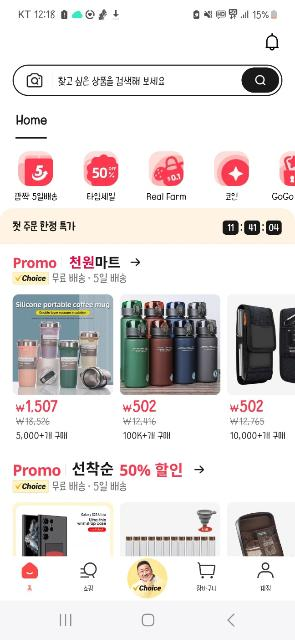Bottom_Navigation: (0, 556, 295, 601)
EditText: (52, 67, 282, 95)
Icon: (198, 562, 218, 580), (22, 561, 38, 579), (80, 562, 96, 580), (265, 31, 279, 50), (258, 562, 274, 578), (27, 73, 43, 87), (195, 464, 205, 474), (256, 76, 266, 86), (130, 258, 140, 266)
Image: (121, 294, 221, 394), (13, 296, 113, 394), (229, 296, 295, 396), (14, 502, 112, 558), (119, 503, 218, 557), (229, 502, 295, 556), (127, 558, 168, 598), (83, 150, 119, 186), (19, 152, 54, 186), (150, 152, 184, 186), (216, 152, 250, 186)
ImageButton: (241, 68, 279, 92)
Text: (230, 400, 288, 440), (16, 398, 66, 439), (124, 399, 172, 441), (72, 462, 184, 476), (58, 76, 164, 86), (53, 274, 127, 284), (68, 256, 119, 270), (54, 482, 126, 491), (13, 221, 75, 231), (14, 465, 60, 475), (226, 223, 280, 231), (14, 258, 56, 268), (147, 192, 187, 202), (15, 192, 57, 200), (17, 114, 47, 125), (88, 192, 116, 202), (273, 192, 295, 202), (22, 482, 46, 490), (22, 275, 46, 281), (198, 585, 217, 591), (226, 192, 238, 200), (260, 585, 272, 591), (85, 585, 94, 591), (27, 585, 33, 591)
TextImageButton: (13, 151, 59, 203), (146, 152, 188, 200), (83, 151, 119, 201), (216, 152, 250, 200), (198, 561, 218, 591), (255, 562, 275, 592), (22, 562, 38, 592), (80, 562, 96, 592)
UpperTaskBar: (0, 0, 295, 30)
